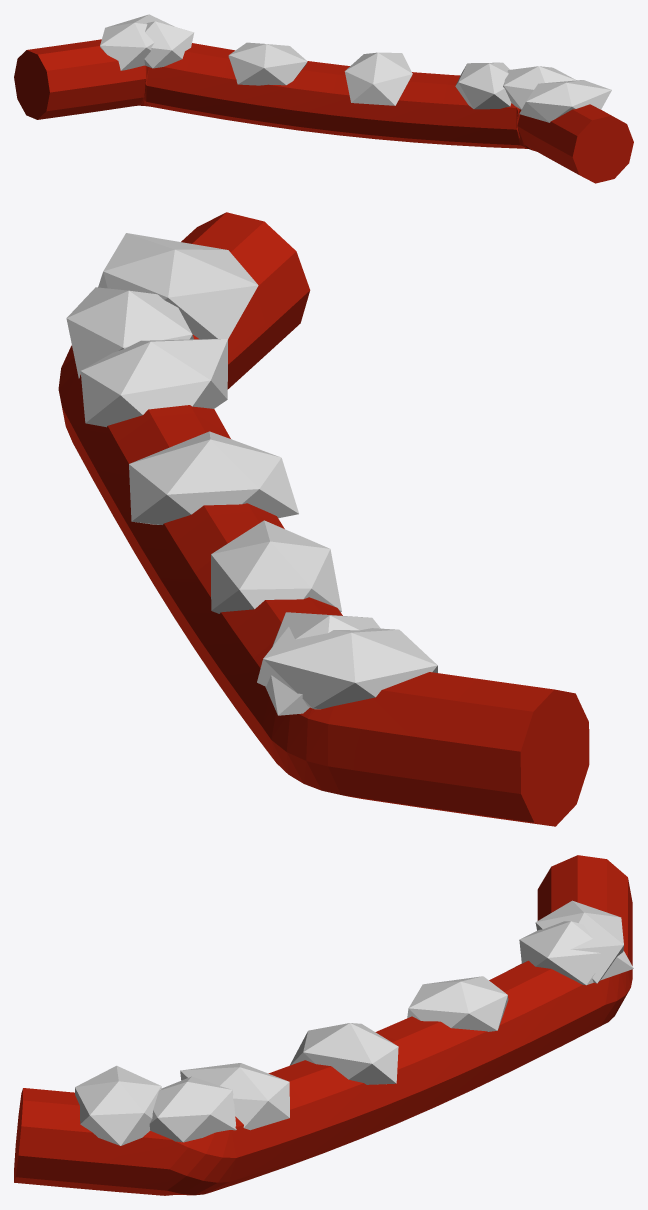
File: ArcticV2_Run_Cable_Corner.fbx
The picture shows the model from 3 angles, top to bottom: view 1: azimuth 30°, elevation 25°; view 2: azimuth 150°, elevation 25°; view 3: azimuth 270°, elevation 25°; orthographic projection. The views are drawn at different scales.
Parts seen in each view (by area): view 1: ArcticV2_Run_Cable_Corner; view 2: ArcticV2_Run_Cable_Corner; view 3: ArcticV2_Run_Cable_Corner.
Part boxes in pixels (left/top/right/bottom): ArcticV2_Run_Cable_Corner: left=14, top=14, right=633, bottom=183; ArcticV2_Run_Cable_Corner: left=58, top=212, right=589, bottom=826; ArcticV2_Run_Cable_Corner: left=14, top=855, right=633, bottom=1195.
Bounding box in the file's own units: 0.6571 × 0.1398 × 0.6456.
